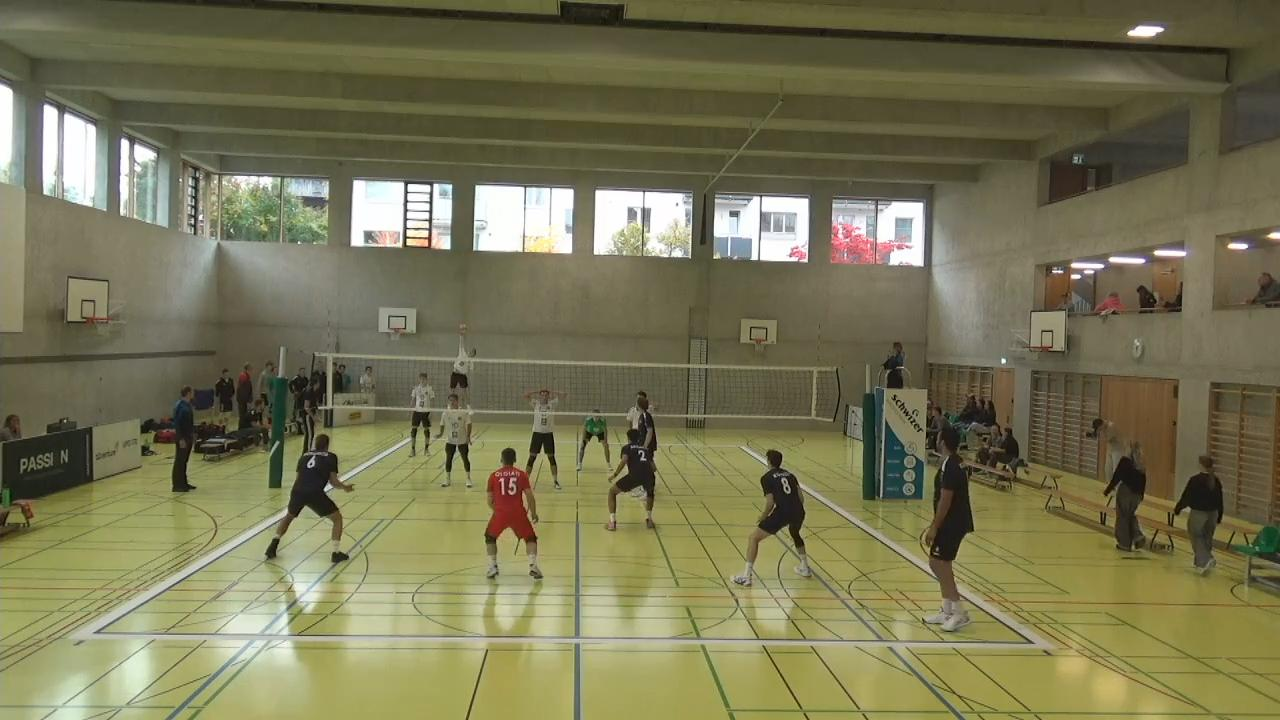battuta: (443, 315, 479, 414)
